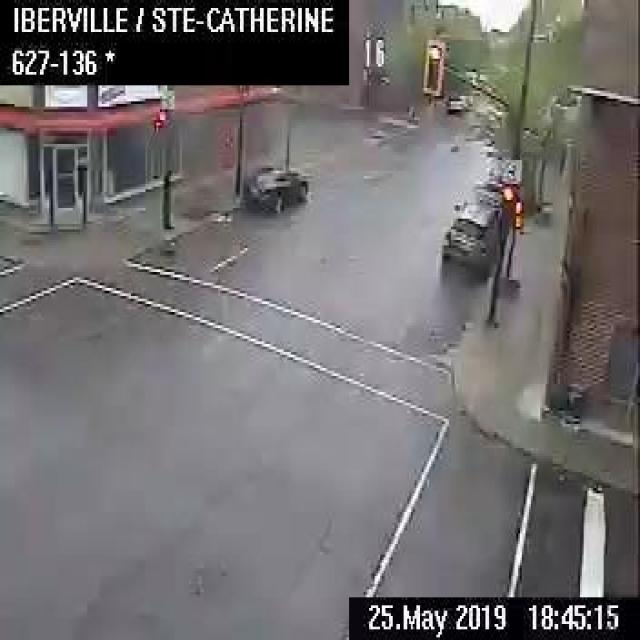vehicle: (437, 202, 495, 276), (242, 163, 307, 213), (444, 91, 464, 110)
